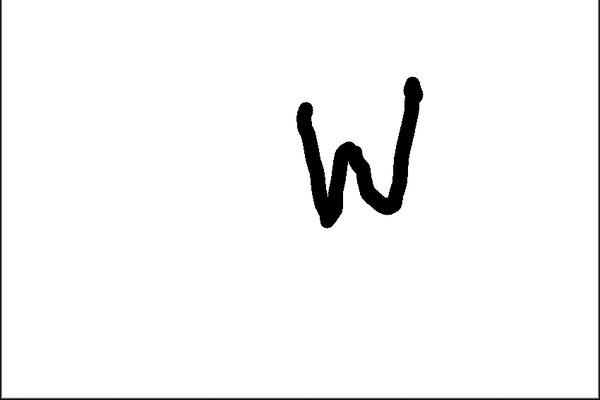w: (267, 55, 447, 248)
